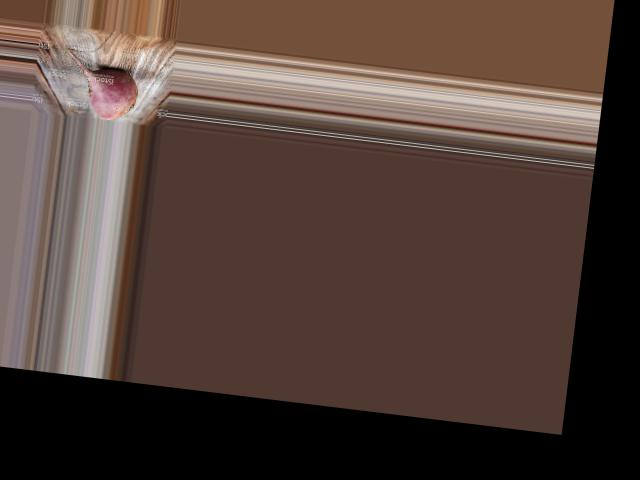beet: (58, 48, 141, 122)
